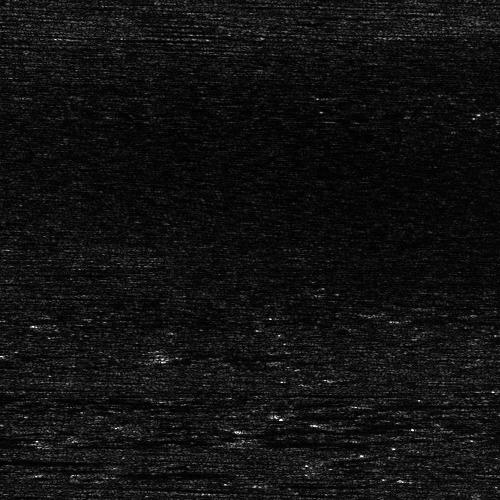rock: (87, 469, 128, 476), (358, 497, 431, 500), (244, 481, 297, 484), (206, 440, 237, 443)
shadow: (0, 457, 137, 464), (108, 469, 245, 476), (222, 440, 374, 443), (395, 497, 500, 500), (271, 481, 342, 484), (0, 465, 19, 470)
